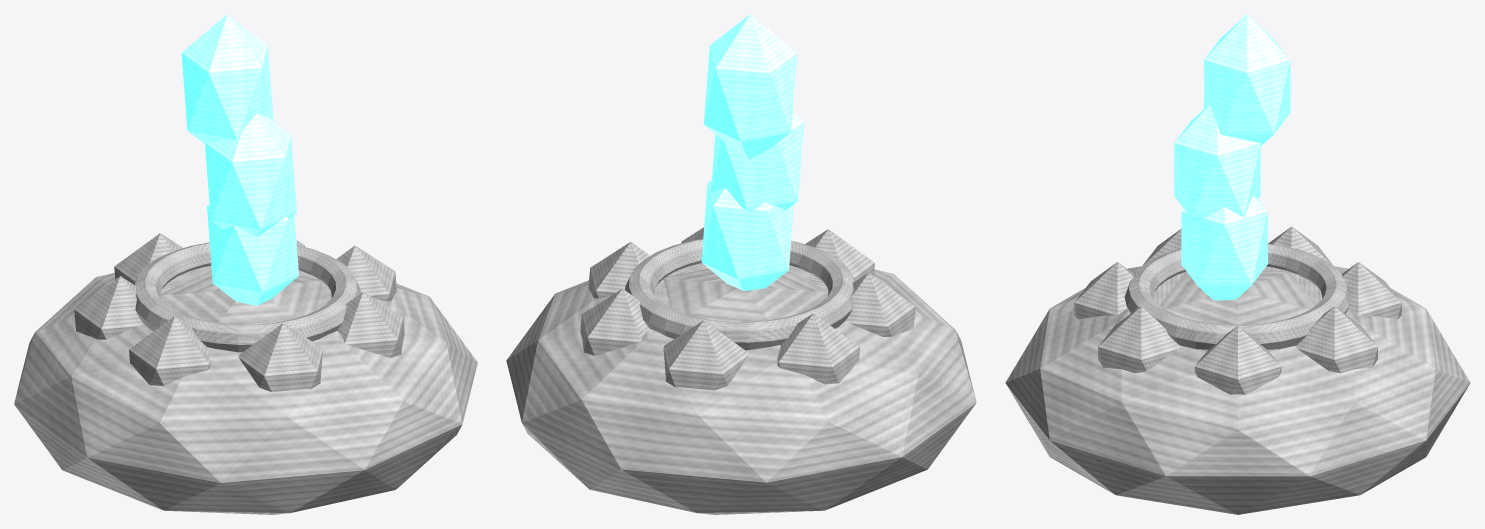
File: geyser_variant_a.glb
3 renders of one model, left to right at view 1: azimuth 30°, elevation 25°; view 2: azimuth 150°, elevation 25°; view 3: azimuth 270°, elevation 25°, orthographic. The views are drawn at different scales.
Parts seen in each view (by area): view 1: Geyser mound.001, Steam plume volume.002, Steam plume volume.001, Geothermal rim.001, Steam plume volume, Vent rock.005, Vent rock.004, Vent rock.006, Vent rock.003, Vent rock, Vent rock.002, Vent throat; view 2: Geyser mound.001, Steam plume volume.002, Geothermal rim.001, Steam plume volume, Steam plume volume.001, Vent rock.002, Vent rock.003, Vent rock.001, Vent rock.004, Vent rock, Vent rock.005, Vent throat; view 3: Geyser mound.001, Steam plume volume.002, Geothermal rim.001, Steam plume volume.001, Steam plume volume, Vent rock, Vent rock.001, Vent rock.006, Vent rock.002, Vent rock.005, Vent throat, Vent rock.003.
Boxes of the visible parts, x1=… form: Geyser mound.001: x1=14, y1=270, x2=477, y2=514; Steam plume volume.002: x1=181, y1=14, x2=273, y2=143; Steam plume volume.001: x1=205, y1=113, x2=296, y2=236; Geothermal rim.001: x1=134, y1=242, x2=360, y2=352; Steam plume volume: x1=207, y1=203, x2=298, y2=305; Vent rock.005: x1=238, y1=323, x2=322, y2=391; Vent rock.004: x1=129, y1=316, x2=210, y2=385; Vent rock.006: x1=337, y1=291, x2=404, y2=357; Vent rock.003: x1=74, y1=276, x2=143, y2=339; Vent rock: x1=336, y1=245, x2=396, y2=301; Vent rock.002: x1=114, y1=233, x2=182, y2=284; Vent throat: x1=160, y1=266, x2=331, y2=312; Geyser mound.001: x1=506, y1=268, x2=976, y2=514; Steam plume volume.002: x1=703, y1=14, x2=797, y2=159; Geothermal rim.001: x1=625, y1=239, x2=854, y2=350; Steam plume volume: x1=701, y1=180, x2=793, y2=291; Steam plume volume.001: x1=711, y1=112, x2=804, y2=211; Vent rock.002: x1=663, y1=320, x2=749, y2=390; Vent rock.003: x1=777, y1=313, x2=860, y2=384; Vent rock.001: x1=580, y1=288, x2=648, y2=355; Vent rock.004: x1=845, y1=273, x2=915, y2=336; Vent rock: x1=588, y1=242, x2=649, y2=298; Vent rock.005: x1=805, y1=229, x2=874, y2=281; Vent throat: x1=654, y1=263, x2=828, y2=309; Geyser mound.001: x1=1005, y1=266, x2=1470, y2=514; Steam plume volume.002: x1=1204, y1=14, x2=1290, y2=146; Geothermal rim.001: x1=1124, y1=244, x2=1351, y2=349; Steam plume volume.001: x1=1174, y1=105, x2=1260, y2=220; Steam plume volume: x1=1181, y1=196, x2=1267, y2=300; Vent rock: x1=1194, y1=326, x2=1281, y2=394; Vent rock.001: x1=1295, y1=306, x2=1377, y2=372; Vent rock.006: x1=1098, y1=306, x2=1180, y2=372; Vent rock.002: x1=1342, y1=262, x2=1401, y2=319; Vent rock.005: x1=1074, y1=262, x2=1133, y2=319; Vent throat: x1=1153, y1=266, x2=1322, y2=304; Vent rock.003: x1=1268, y1=226, x2=1333, y2=265.
Size of what is drawn, in the model's own units: 3.04 by 3.45 by 3.2.
4 materials, 4 textured.
